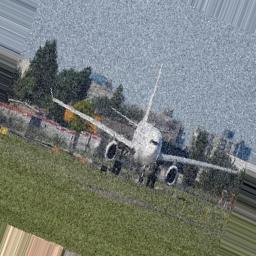Airplane: (48, 85, 243, 191)
